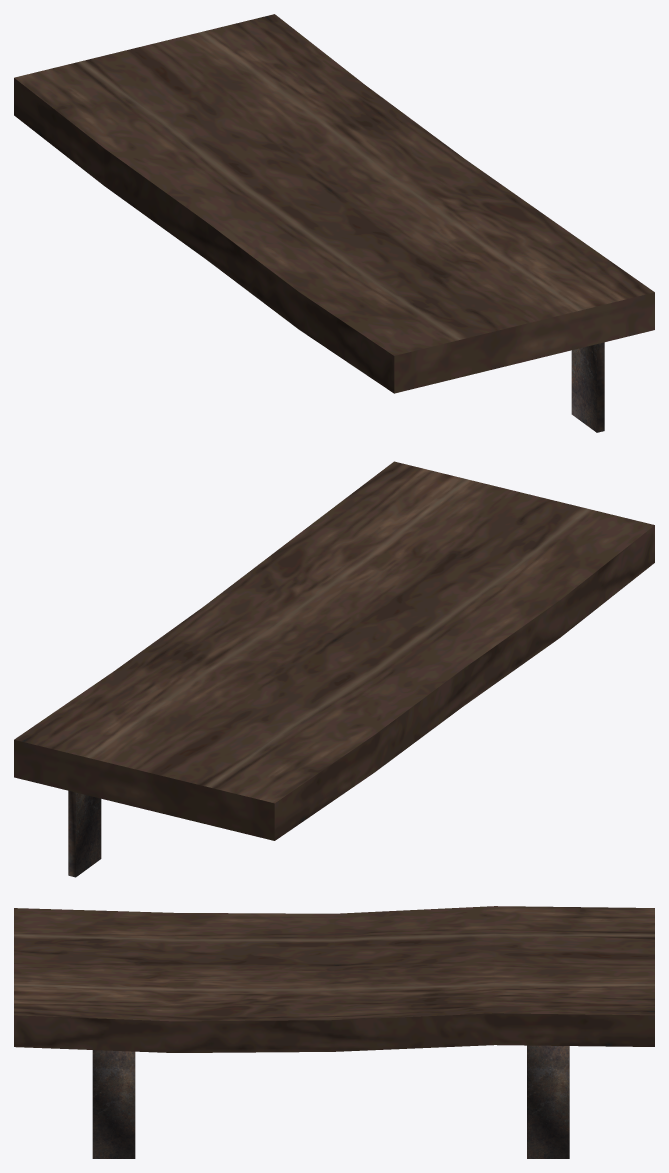
Rendered from Shelf_Wall.fbx.
3 renders of one model, top to bottom at view 1: azimuth 30°, elevation 25°; view 2: azimuth 150°, elevation 25°; view 3: azimuth 270°, elevation 25°, orthographic. The views are drawn at different scales.
Visible parts, largest first — view 1: Cube.036; view 2: Cube.036; view 3: Cube.036.
Boxes of the visible parts, bbox=[...] form: Cube.036: bbox=[14, 14, 654, 432]; Cube.036: bbox=[14, 461, 654, 877]; Cube.036: bbox=[14, 906, 654, 1158].
Size of the model in its own units: 1.05 by 2.56 by 0.64.
